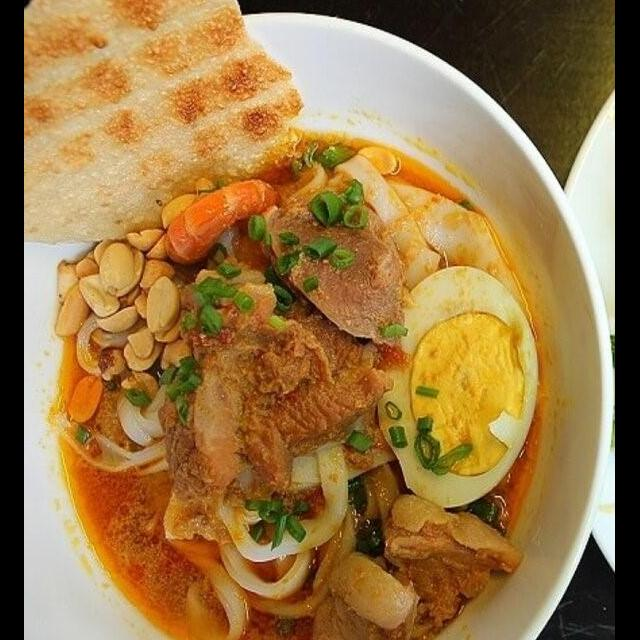banh da: (25, 0, 308, 251)
mi: (179, 409, 405, 640), (328, 153, 522, 300), (41, 304, 188, 476)
thit heo: (152, 281, 398, 514), (258, 182, 414, 352), (375, 489, 529, 640), (301, 548, 425, 640)
tom: (158, 174, 282, 272)
trung: (370, 259, 544, 512)
